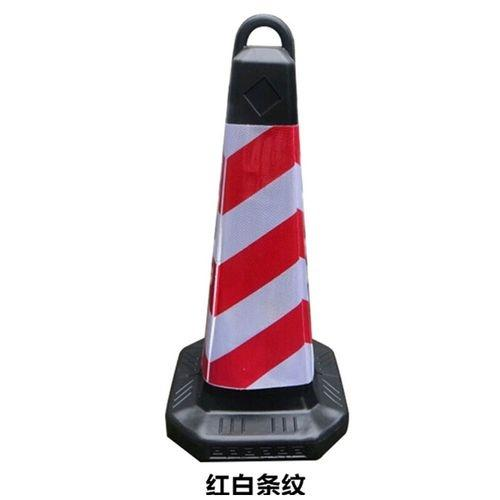cone_barrel: (171, 11, 346, 432)
